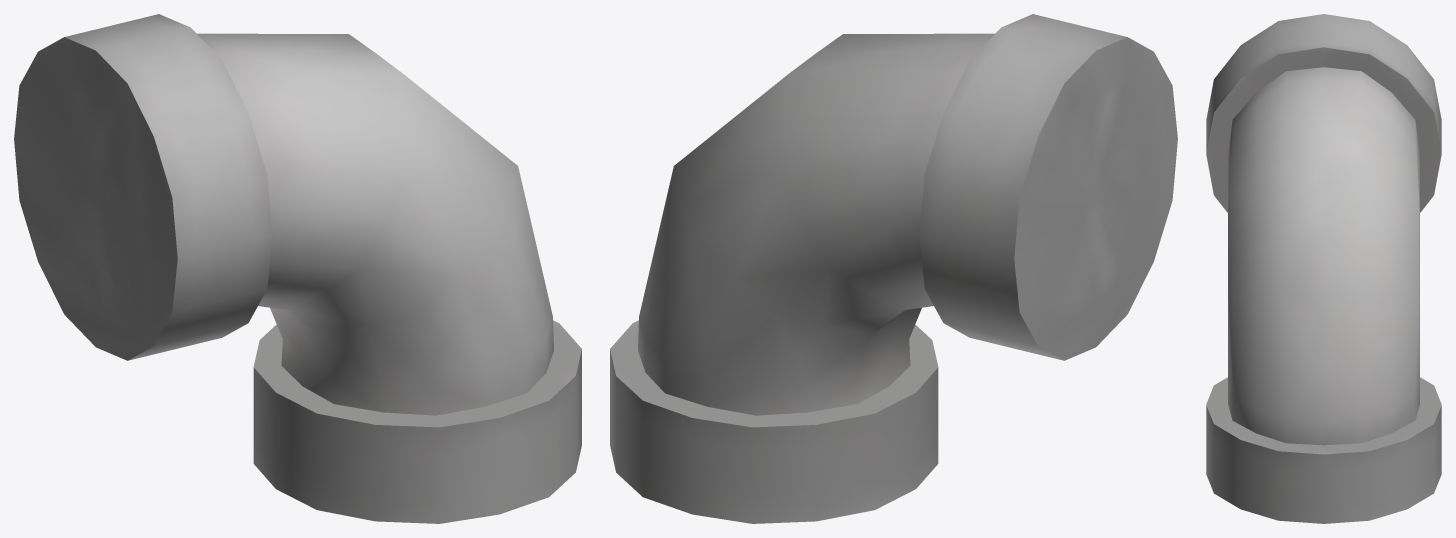
3 views of the same model, side by side, from view 1: azimuth 30°, elevation 25°; view 2: azimuth 150°, elevation 25°; view 3: azimuth 270°, elevation 25° (orthographic). The views are drawn at different scales.
Visible parts, largest first — view 1: Mat_Pipe_01; view 2: Mat_Pipe_01; view 3: Mat_Pipe_01.
Boxes of the visible parts, bbox=[...] form: Mat_Pipe_01: bbox=[14, 14, 581, 523]; Mat_Pipe_01: bbox=[610, 14, 1177, 523]; Mat_Pipe_01: bbox=[1206, 14, 1441, 523].
Bounding box in the file's own units: 0.5855 × 0.5822 × 0.3581.
1 material, 1 textured.
